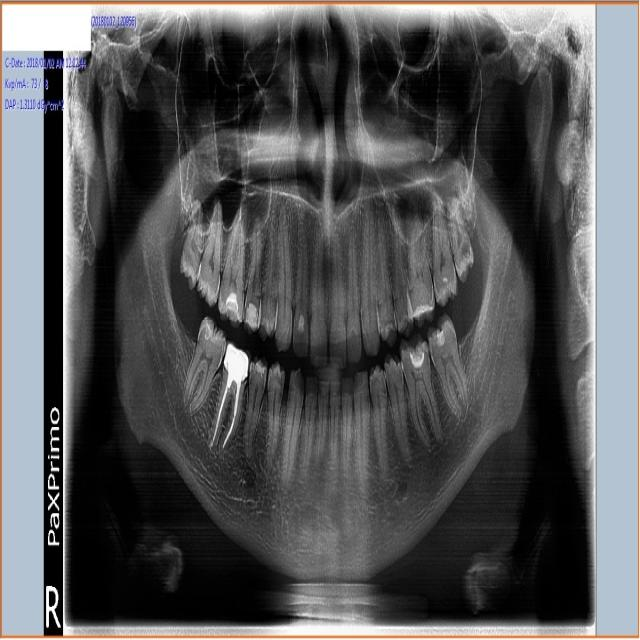Caries: (446, 196, 475, 284)
